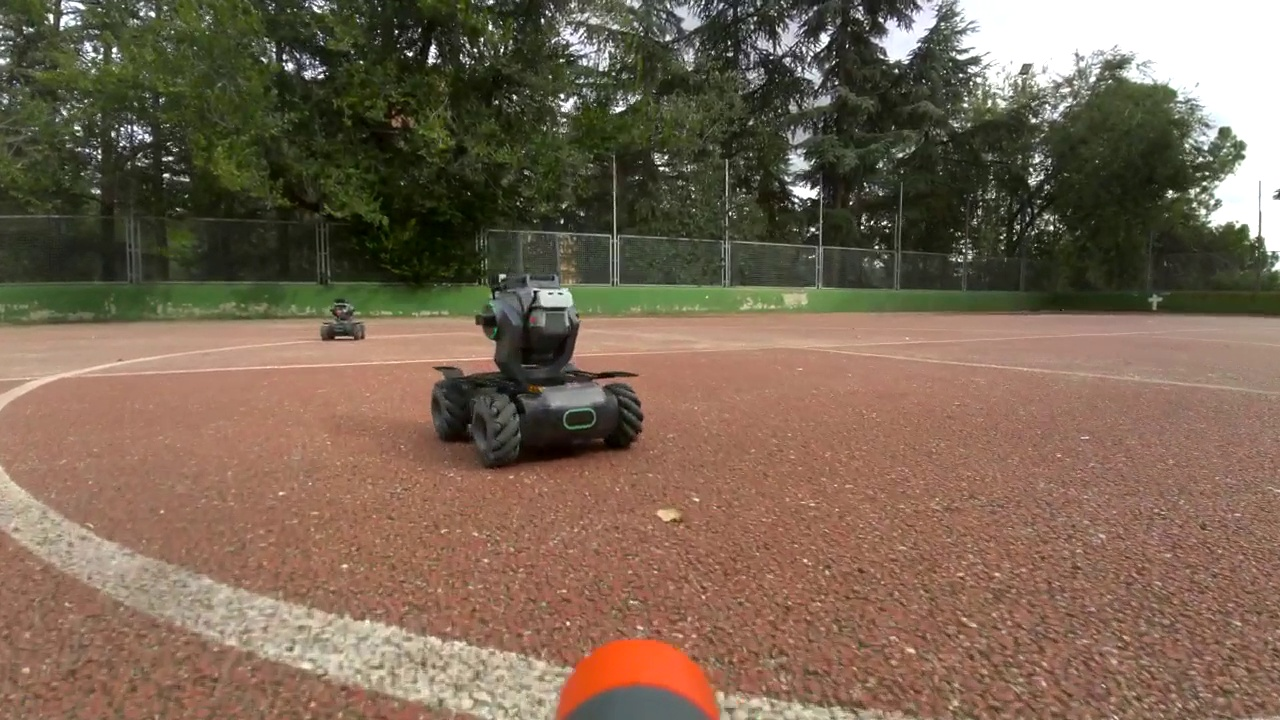robot: (433, 277, 642, 467), (323, 298, 364, 339)
